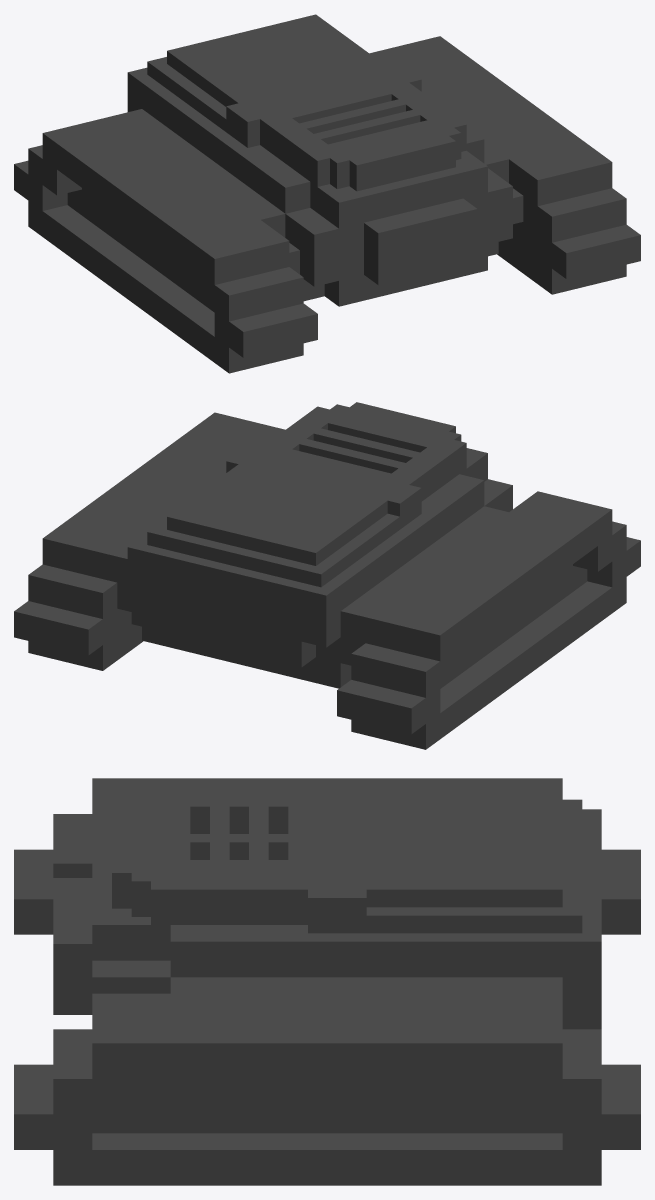
File: HeavyTank-2.obj
3 views of the same model, one above another, from view 1: azimuth 30°, elevation 25°; view 2: azimuth 150°, elevation 25°; view 3: azimuth 270°, elevation 25° (orthographic). The views are drawn at different scales.
Bounding box in the file's own units: 3.2 × 1.2 × 3.2.
